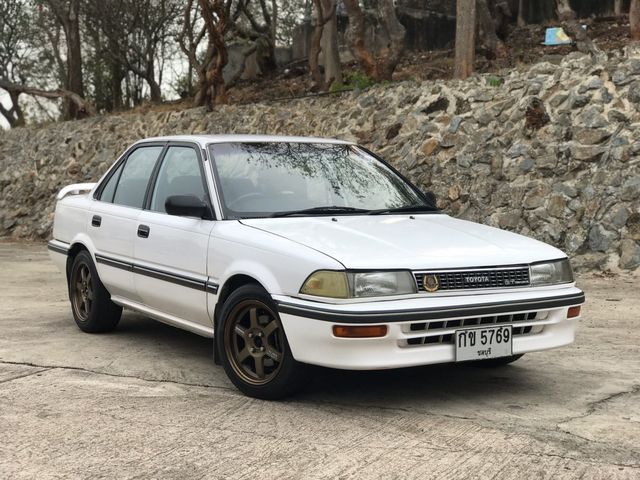sedan: (48, 132, 588, 402)
